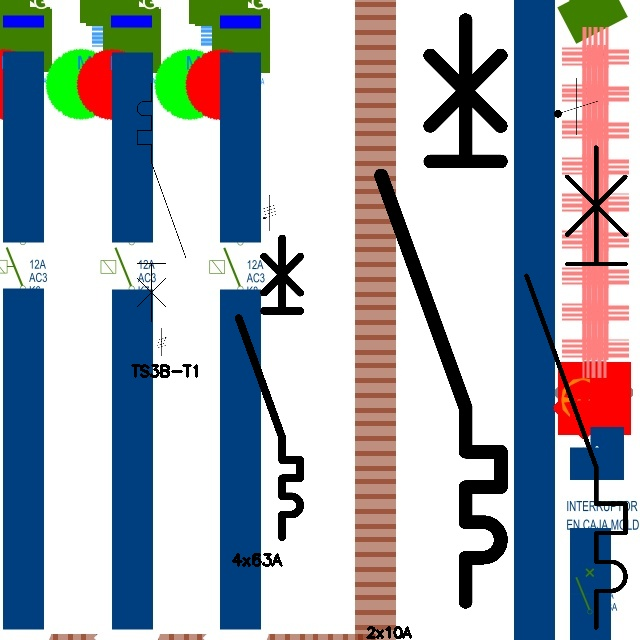interruptor_termomagnetico: (366, 5, 516, 617), (514, 135, 638, 640), (231, 230, 308, 544), (131, 77, 192, 327)
